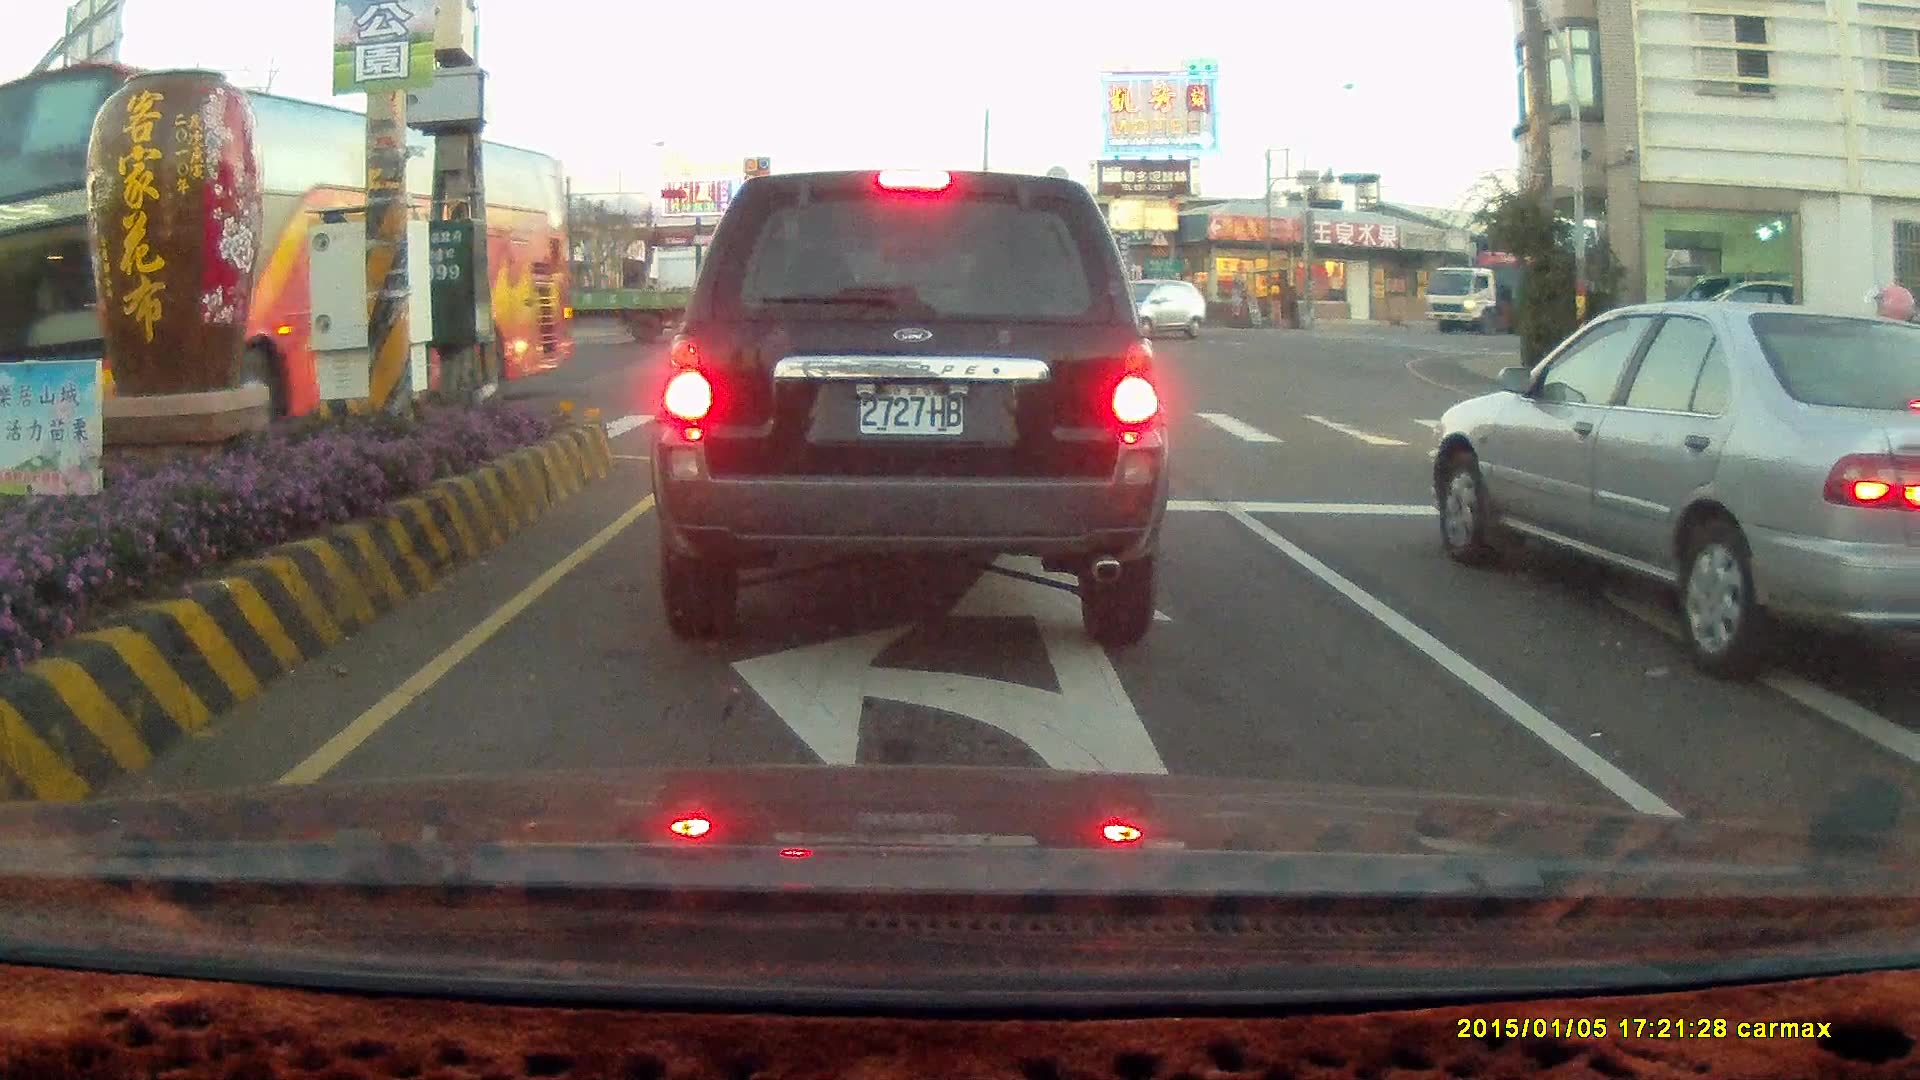vehicle: (647, 165, 1171, 649), (1, 57, 568, 436), (1422, 295, 1920, 686), (1443, 302, 1920, 692), (568, 255, 825, 345), (1425, 251, 1590, 336), (1643, 276, 1785, 357), (1896, 493, 1920, 836), (1113, 277, 1207, 340)
